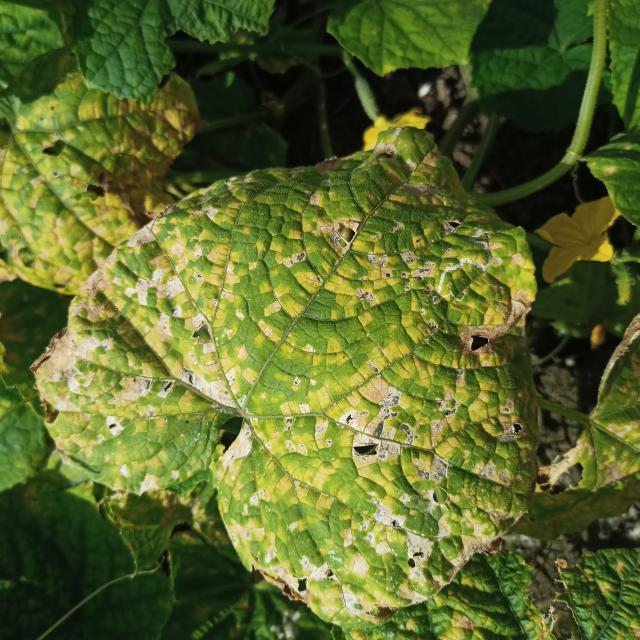disease_cucumber: (59, 137, 538, 609), (1, 54, 194, 286)
